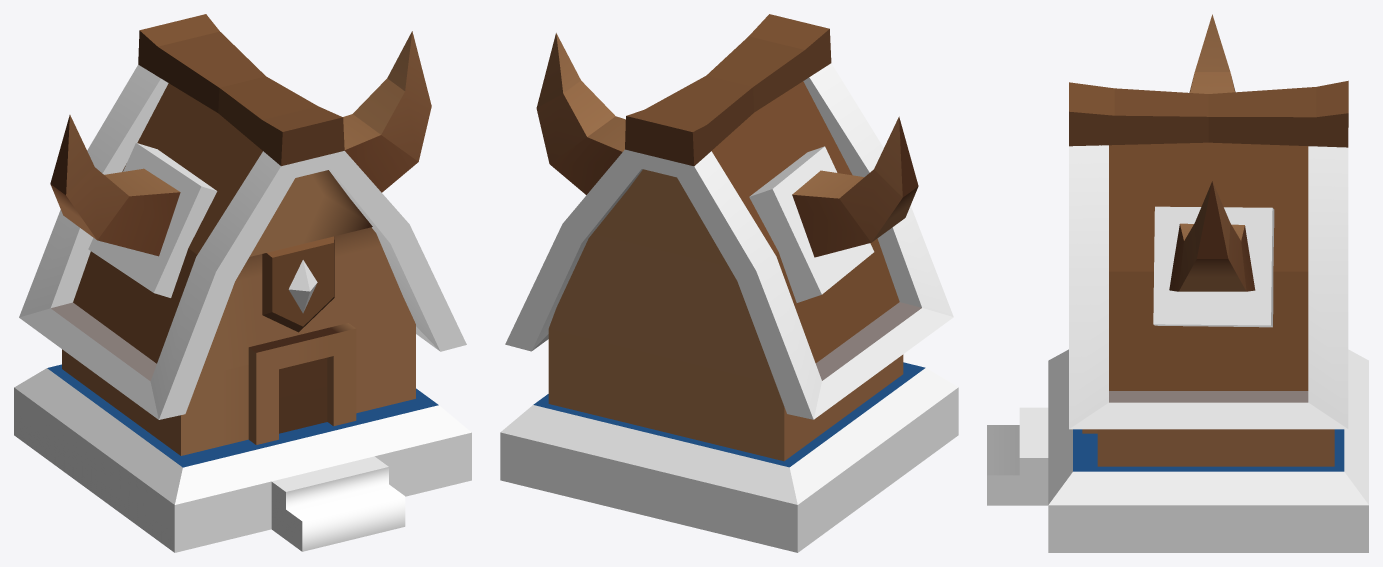
Rendered from Building_CityHall_Lv7.fbx.
3 views of the same model, side by side, from view 1: azimuth 30°, elevation 25°; view 2: azimuth 150°, elevation 25°; view 3: azimuth 270°, elevation 25° (orthographic).
Parts seen in each view (by area): view 1: Building_CityHall_Lv7; view 2: Building_CityHall_Lv7; view 3: Building_CityHall_Lv7.
Part boxes in pixels (bbox=[...]): Building_CityHall_Lv7: bbox=[14, 14, 471, 552]; Building_CityHall_Lv7: bbox=[500, 14, 958, 552]; Building_CityHall_Lv7: bbox=[987, 14, 1368, 552].
Bounding box in the file's own units: 1.09 × 1.1 × 0.9898.
